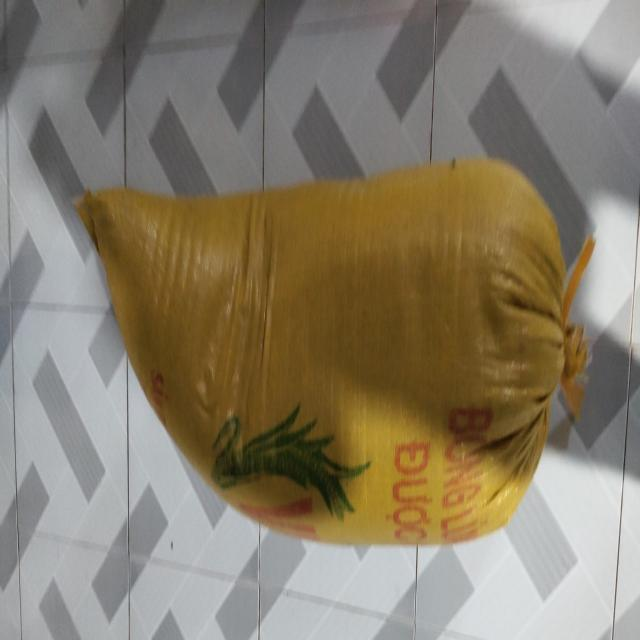gunny_bag: (76, 158, 595, 544)
